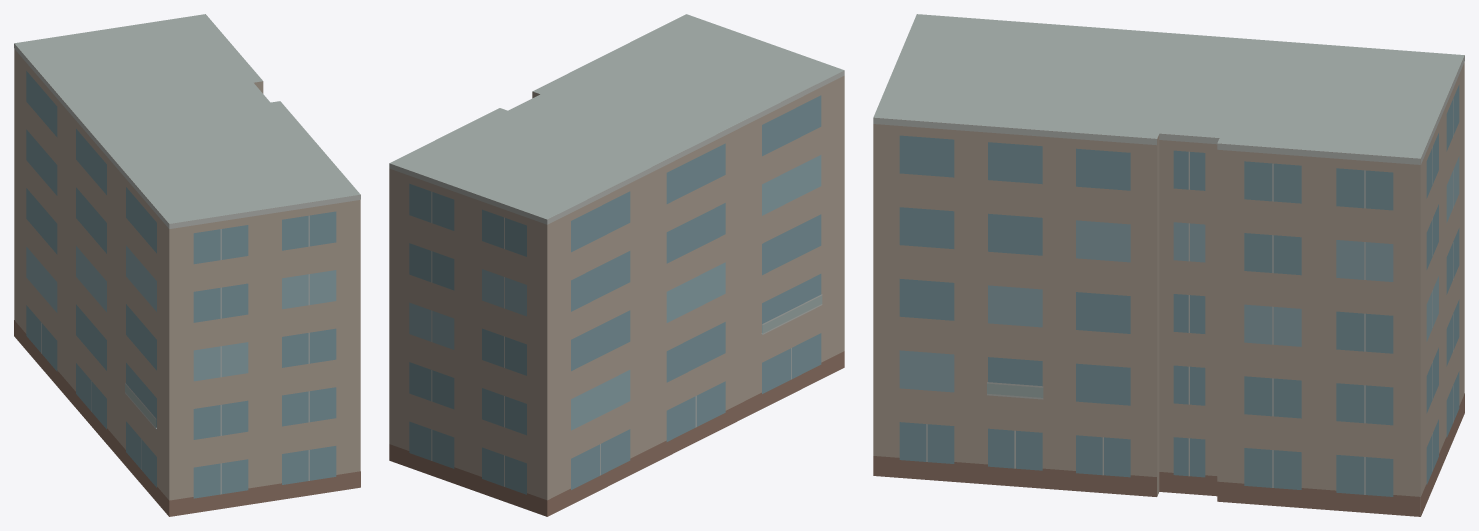
File: survey-upis-32698559.glb
The picture shows the model from 3 angles, left to right: view 1: azimuth 30°, elevation 25°; view 2: azimuth 150°, elevation 25°; view 3: azimuth 270°, elevation 25°; orthographic projection. The views are drawn at different scales.
Parts seen in each view (by area): view 1: survey-upis-32698559.tmp; view 2: survey-upis-32698559.tmp; view 3: survey-upis-32698559.tmp.
Boxes of the visible parts, x1,y1,x2,y2 form: survey-upis-32698559.tmp: [14, 14, 360, 516]; survey-upis-32698559.tmp: [389, 14, 844, 516]; survey-upis-32698559.tmp: [873, 14, 1464, 516].
Bounding box in the file's own units: 12.05 × 13.9 × 20.81.
